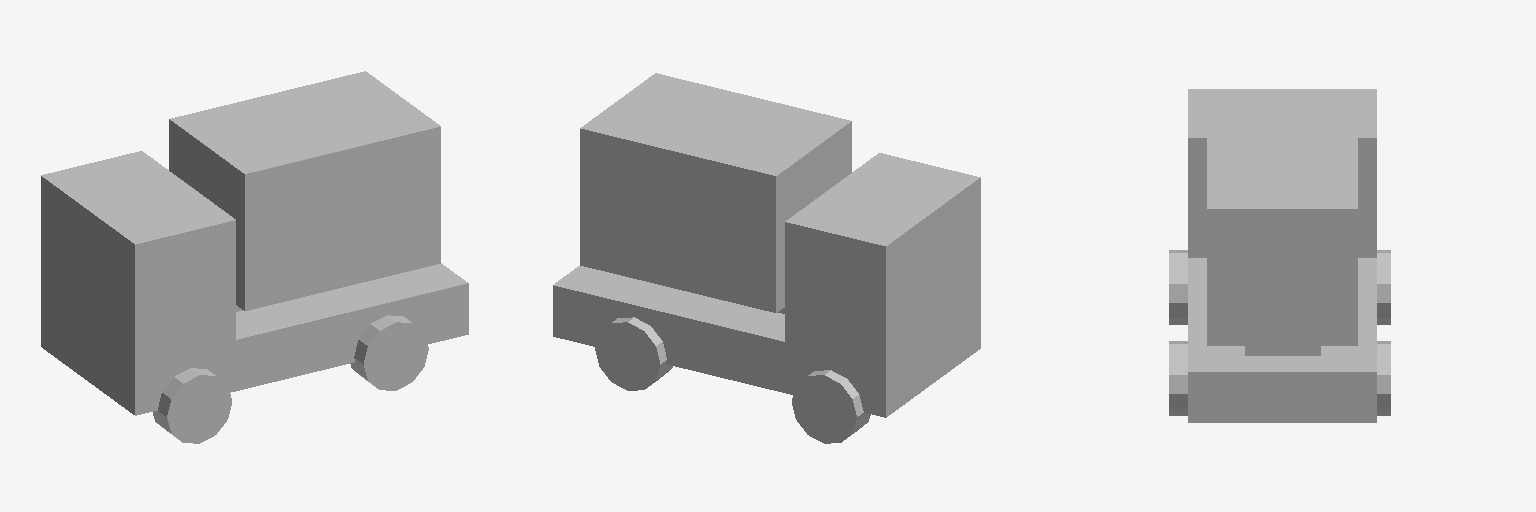
Rendered from truck.obj.
3 renders of one model, left to right at view 1: azimuth 30°, elevation 25°; view 2: azimuth 150°, elevation 25°; view 3: azimuth 270°, elevation 25°, orthographic.
Visible parts, largest first — view 1: group[number redacted], group[number redacted], group[number redacted], group[number redacted]; view 2: group[number redacted], group[number redacted], group[number redacted], group[number redacted]; view 3: group[number redacted], group[number redacted], group[number redacted], group[number redacted], group[number redacted], group[number redacted], group[number redacted].
Boxes of the visible parts, <box> form: group[number redacted]: <box>41,151,468,415</box>; group[number redacted]: <box>169,71,440,310</box>; group[number redacted]: <box>153,368,231,443</box>; group[number redacted]: <box>350,315,428,390</box>; group[number redacted]: <box>553,153,980,417</box>; group[number redacted]: <box>580,73,851,312</box>; group[number redacted]: <box>792,370,870,443</box>; group[number redacted]: <box>595,317,672,390</box>; group[number redacted]: <box>1207,113,1357,345</box>; group[number redacted]: <box>1188,89,1376,422</box>; group[number redacted]: <box>1169,341,1187,415</box>; group[number redacted]: <box>1169,250,1187,324</box>; group[number redacted]: <box>1377,341,1390,415</box>; group[number redacted]: <box>1377,250,1390,324</box>; group[number redacted]: <box>1245,346,1320,355</box>.
Bounding box in the file's own units: 0.2037 × 0.14 × 0.1171.